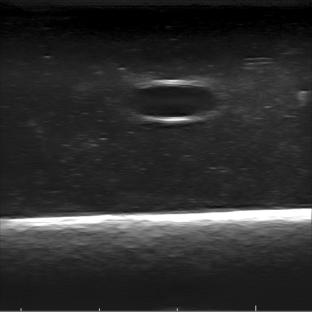vessel: (124, 79, 224, 123)
